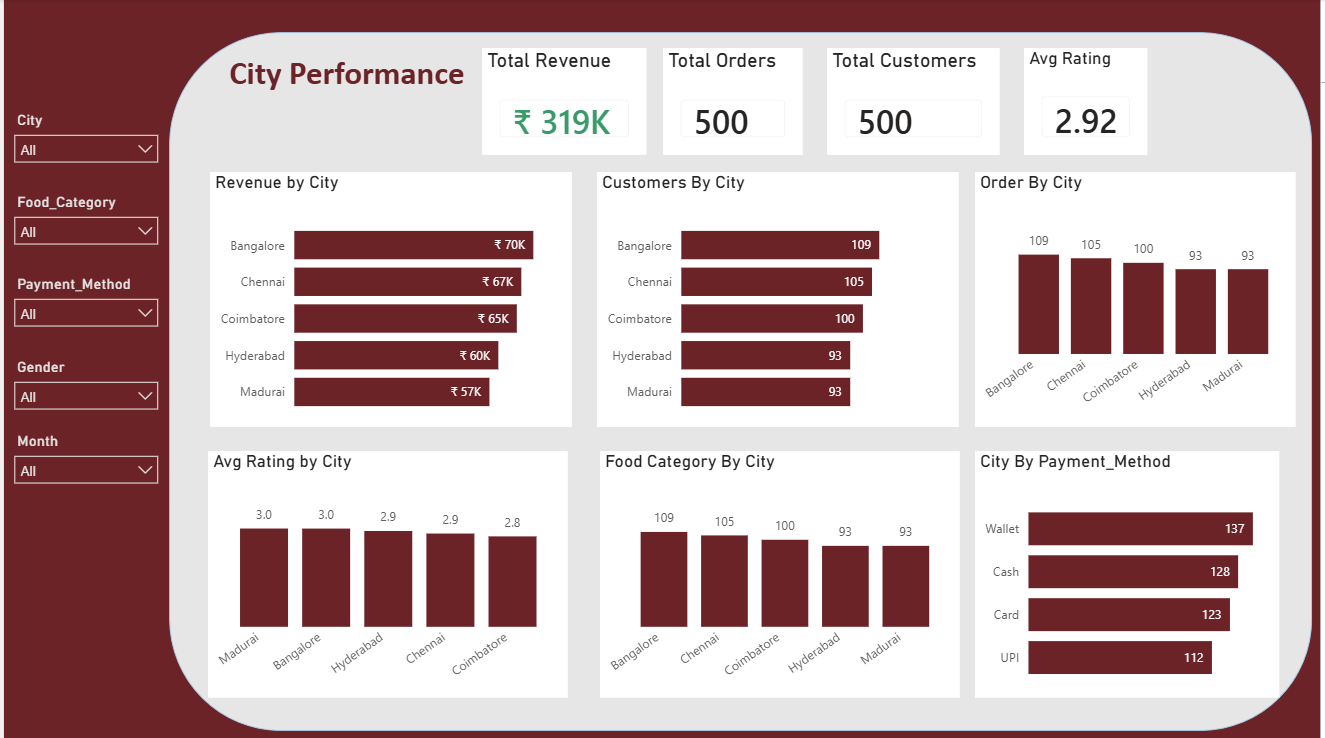

The dashboard page shown, as its layout file describes it:
{"tool":"powerbi","page":{"name":"City Performace","canvas":[1280,720],"ordinal":4},"visuals":[{"type":"shape","box":[160,32,1112,680],"z":0,"group":"g1"},{"type":"group","id":"g1","title":"Group 1","box":[160,32,1112,680],"z":11},{"type":"slicer","fields":{"Values":["Sheet.City"]},"box":[0,104,160,80],"z":12},{"type":"slicer","fields":{"Values":["Sheet.Food_Category"]},"box":[0,184,160,80],"z":13},{"type":"slicer","fields":{"Values":["Sheet.Payment_Method"]},"box":[0,264,160,80],"z":14},{"type":"slicer","fields":{"Values":["Sheet.Gender"]},"box":[0,344,160,80],"z":15},{"type":"slicer","fields":{"Values":["Sheet.Order_Date.Variation.Date Hierarchy.Month"]},"box":[0,416,160,80],"z":16},{"type":"textbox","box":[213.3,48,243.2,84],"z":1000,"group":"g1"},{"type":"cardVisual","title":"Total Revenue","fields":{"Data":["Sheet.Total Revenue"]},"box":[462.5,48,152.3,104],"z":2000,"group":"g1"},{"type":"cardVisual","title":"Total Orders","fields":{"Data":["CountNonNull(Sheet.Order_ID)"]},"box":[640,48,136,104],"z":3000,"group":"g1"},{"type":"cardVisual","title":"Total Customers","fields":{"Data":["Sheet.tota customers"]},"box":[800,48,168,104],"z":4000,"group":"g1"},{"type":"cardVisual","title":"Avg Rating","fields":{"Data":["Sheet.Avg Rating"]},"box":[992,48,120,104],"z":5000,"group":"g1"},{"type":"barChart","title":" Revenue by City","fields":{"Category":["Sheet.City"],"Y":["Sheet.Total Revenue"]},"box":[200,168,352,248],"z":6000,"group":"g1"},{"type":"clusteredColumnChart","title":" Order By City","fields":{"Category":["Sheet.City"],"Y":["CountNonNull(Sheet.Order_ID)"]},"box":[944,168,312,248],"z":7000,"group":"g1"},{"type":"clusteredBarChart","title":"Customers By City","fields":{"Category":["Sheet.City"],"Y":["Sheet.tota customers"]},"box":[576,168,352,248],"z":8000,"group":"g1"},{"type":"clusteredColumnChart","fields":{"Category":["Sheet.City"],"Y":["Sheet.Avg Rating"]},"box":[198.1,440,350.4,240],"z":9000,"group":"g1"},{"type":"barChart","title":" City By Payment_Method","fields":{"Y":["CountNonNull(Sheet.City)"],"Category":["Sheet.Payment_Method"]},"box":[944,440,296,240],"z":10000,"group":"g1"},{"type":"columnChart","title":"Food Category By City","fields":{"Category":["Sheet.City"],"Y":["CountNonNull(Sheet.Food_Category)"]},"box":[578.9,440,350.4,240],"z":11000,"group":"g1"}]}

Visuals, with their boxes in screenshot pixels (x1, y1, x2, y2), scaled from the page's 1280x720 canvas onto the 1325x738 screenshot:
shape: [166,33,1317,730]
"Group 1" group: [166,33,1317,730]
slicer - Sheet.City: [0,107,166,189]
slicer - Sheet.Food_Category: [0,189,166,271]
slicer - Sheet.Payment_Method: [0,271,166,353]
slicer - Sheet.Gender: [0,353,166,435]
slicer - Sheet.Order_Date.Variation.Date Hierarchy.Month: [0,426,166,508]
textbox: [221,49,473,135]
"Total Revenue" cardVisual: [479,49,636,156]
"Total Orders" cardVisual: [662,49,803,156]
"Total Customers" cardVisual: [828,49,1002,156]
"Avg Rating" cardVisual: [1027,49,1151,156]
" Revenue by City" barChart: [207,172,571,426]
" Order By City" clusteredColumnChart: [977,172,1300,426]
"Customers By City" clusteredBarChart: [596,172,961,426]
clusteredColumnChart - Sheet.City x Sheet.Avg Rating: [205,451,568,697]
" City By Payment_Method" barChart: [977,451,1284,697]
"Food Category By City" columnChart: [599,451,962,697]
